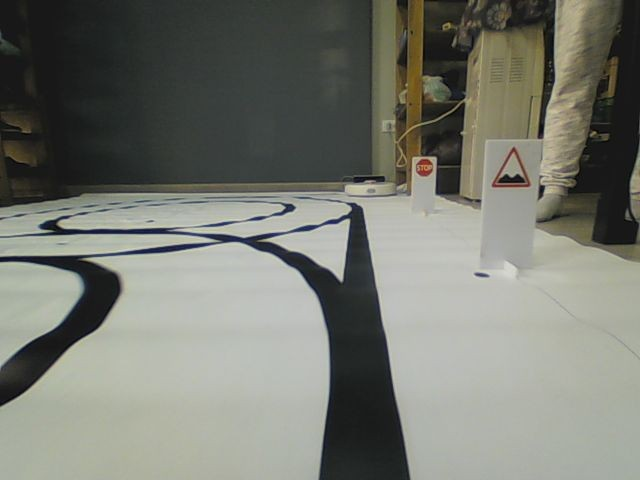Stop: (415, 158, 433, 177)
